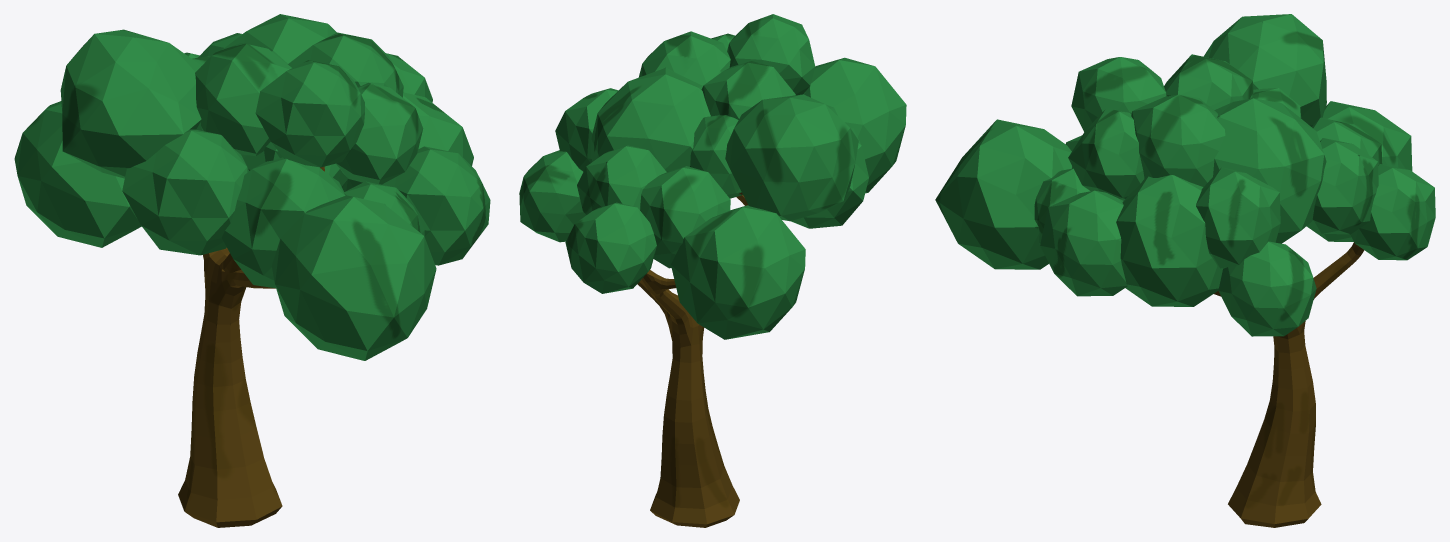
File: Arbol.fbx
The picture shows the model from 3 angles, left to right: view 1: azimuth 30°, elevation 25°; view 2: azimuth 150°, elevation 25°; view 3: azimuth 270°, elevation 25°; orthographic projection. The views are drawn at different scales.
Visible parts, largest first — view 1: arbol; view 2: arbol; view 3: arbol.
Boxes of the visible parts, bbox=[...] form: arbol: bbox=[14, 14, 490, 527]; arbol: bbox=[519, 14, 906, 527]; arbol: bbox=[935, 14, 1435, 527].
Size of the model in its own units: 880 by 1172 by 1164.
